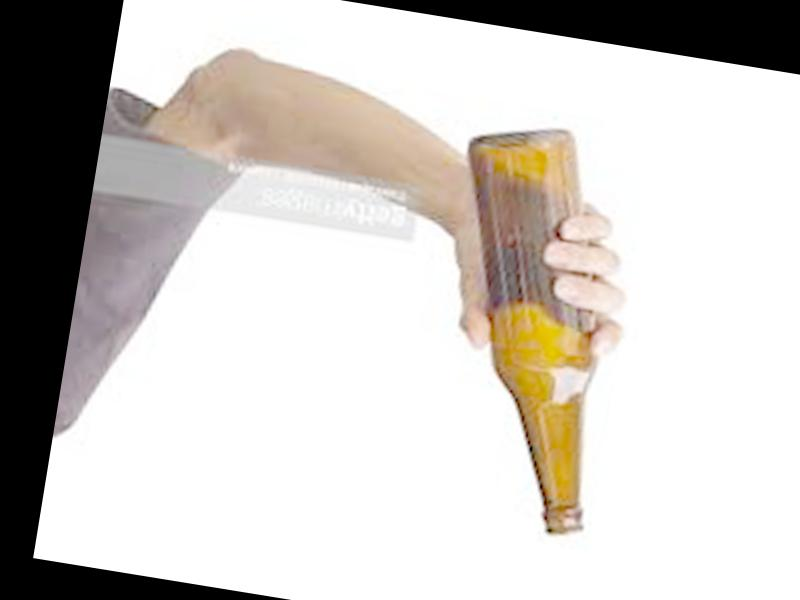Beer: (405, 117, 645, 537)
